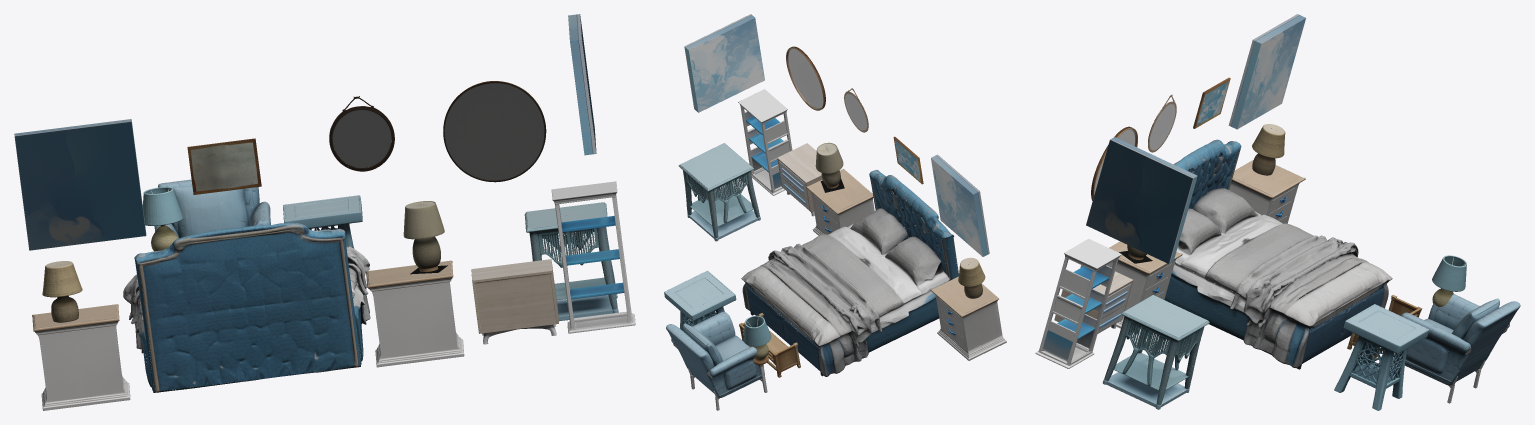
File: gallery-sage-5b769791-web.glb
The picture shows the model from 3 angles, left to right: view 1: azimuth 30°, elevation 25°; view 2: azimuth 150°, elevation 25°; view 3: azimuth 270°, elevation 25°; orthographic projection. The views are drawn at different scales.
Parts seen in each view (by area): view 1: instance_1, instance_14, instance_7, instance_8, instance_9, instance_4, instance_13, instance_3, instance_0, instance_6, instance_16, instance_10 (+4 smaller); view 2: instance_1, instance_13, instance_15, instance_0, instance_9, instance_3, instance_14, instance_8, instance_12, instance_4, instance_7, instance_10 (+5 smaller); view 3: instance_1, instance_15, instance_13, instance_0, instance_3, instance_12, instance_14, instance_9, instance_8, instance_4, instance_11, instance_5 (+4 smaller).
Part boxes in pixels (box(x1,y1,x2,y2)): instance_1: box(123, 222, 370, 392); instance_14: box(14, 119, 146, 250); instance_7: box(443, 81, 546, 182); instance_8: box(366, 260, 464, 367); instance_9: box(32, 304, 130, 410); instance_4: box(471, 259, 558, 344); instance_13: box(524, 202, 618, 321); instance_3: box(551, 181, 635, 333); instance_0: box(154, 179, 270, 238); instance_6: box(329, 96, 394, 171); instance_16: box(187, 138, 261, 194); instance_10: box(403, 201, 447, 274); instance_1: box(741, 170, 958, 376); instance_13: box(678, 143, 760, 241); instance_15: box(684, 14, 764, 112); instance_0: box(666, 311, 767, 410); instance_9: box(930, 276, 1006, 360); instance_3: box(738, 89, 792, 195); instance_14: box(931, 154, 989, 256); instance_8: box(806, 169, 874, 235); instance_12: box(664, 270, 736, 330); instance_4: box(777, 143, 822, 216); instance_7: box(786, 46, 825, 110); instance_10: box(815, 142, 844, 192); instance_1: box(1164, 139, 1392, 369); instance_15: box(1086, 137, 1197, 263); instance_13: box(1102, 295, 1209, 409); instance_0: box(1392, 294, 1520, 403); instance_3: box(1035, 239, 1121, 368); instance_12: box(1334, 304, 1428, 410); instance_14: box(1228, 14, 1305, 129); instance_9: box(1229, 160, 1305, 223); instance_8: box(1107, 241, 1182, 332); instance_4: box(1054, 271, 1133, 333); instance_11: box(1252, 124, 1285, 175); instance_5: box(1432, 255, 1466, 306).
Bounding box in the file's own units: 2.65 × 1.85 × 2.56.
17 materials, 17 textured.
